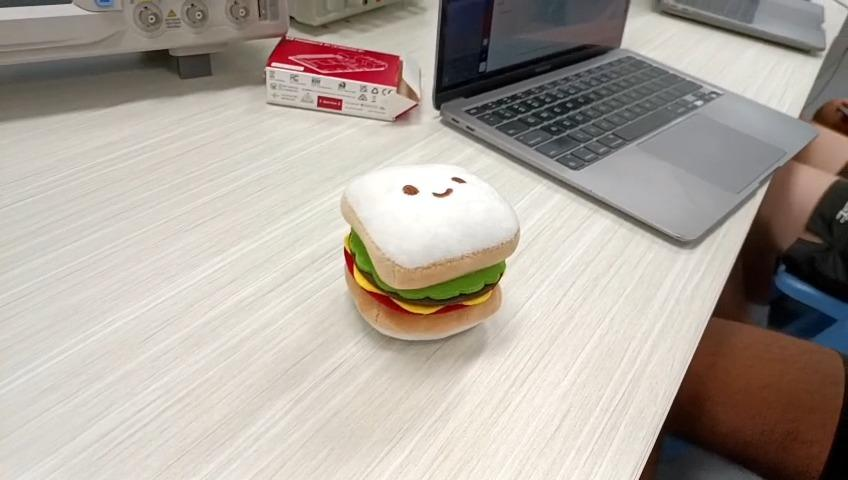objects: (339, 161, 523, 344)
